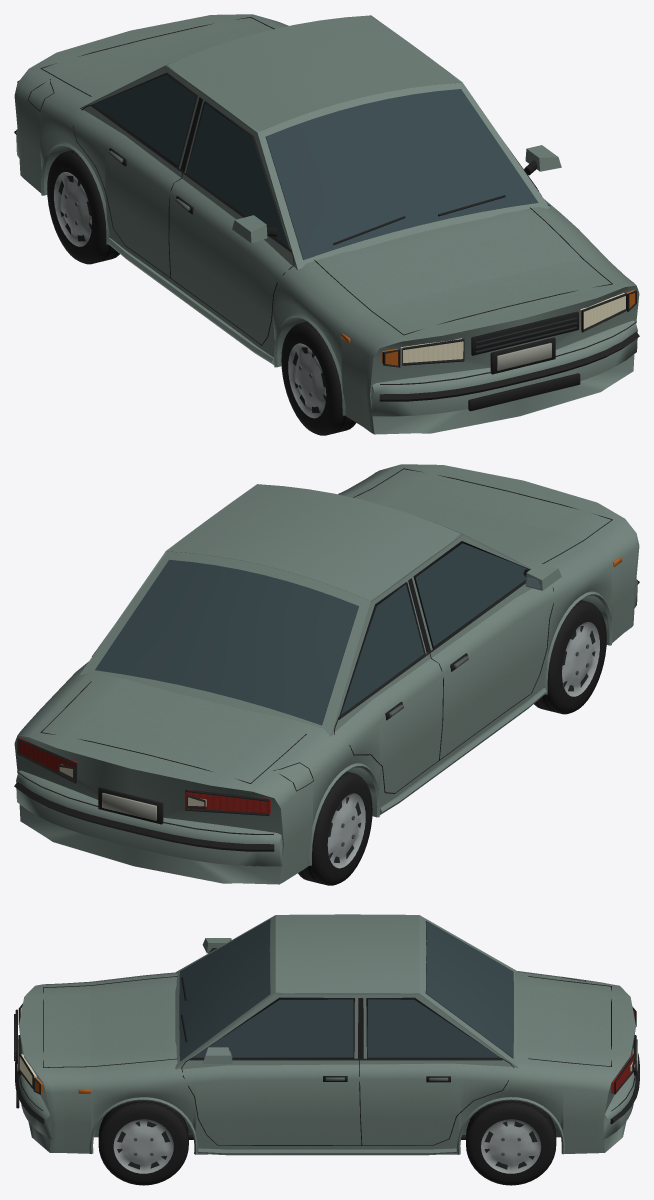
Rendered from BC_SEDAN01_parked.glb.
The picture shows the model from 3 angles, top to bottom: view 1: azimuth 30°, elevation 25°; view 2: azimuth 150°, elevation 25°; view 3: azimuth 270°, elevation 25°; orthographic projection. The views are drawn at different scales.
Parts seen in each view (by area): view 1: BC_SEDAN01_body, BC_SEDAN01_windows, BC_SEDAN01_wheel_front_right, BC_SEDAN01_wheel_rear_right; view 2: BC_SEDAN01_body, BC_SEDAN01_windows, BC_SEDAN01_wheel_rear_right, BC_SEDAN01_wheel_front_right; view 3: BC_SEDAN01_body, BC_SEDAN01_windows, BC_SEDAN01_wheel_front_left, BC_SEDAN01_wheel_rear_left.
Boxes of the visible parts, x1,y1,x2,y2 form: BC_SEDAN01_body: [14, 14, 639, 434]; BC_SEDAN01_windows: [94, 63, 538, 259]; BC_SEDAN01_wheel_front_right: [281, 321, 356, 435]; BC_SEDAN01_wheel_rear_right: [47, 150, 119, 264]; BC_SEDAN01_body: [14, 464, 639, 884]; BC_SEDAN01_windows: [95, 522, 527, 725]; BC_SEDAN01_wheel_rear_right: [298, 771, 372, 885]; BC_SEDAN01_wheel_front_right: [534, 600, 606, 714]; BC_SEDAN01_body: [14, 914, 639, 1155]; BC_SEDAN01_windows: [179, 919, 513, 1061]; BC_SEDAN01_wheel_front_left: [98, 1100, 188, 1185]; BC_SEDAN01_wheel_rear_left: [466, 1100, 556, 1185].
Size of the model in its own units: 1.96 by 1.45 by 4.36.
Materials: 4 (3 with a texture image).
